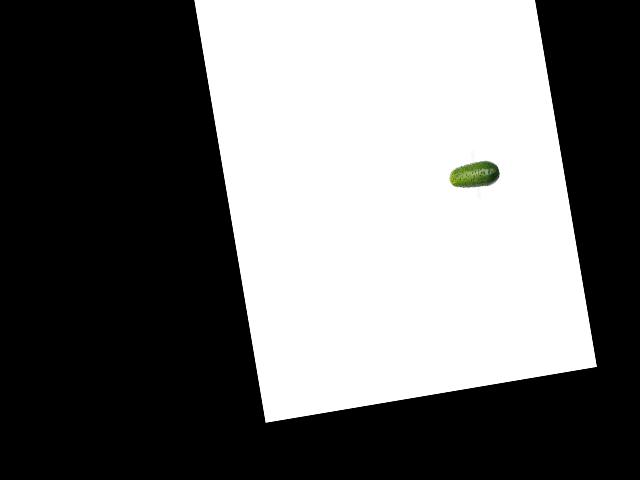cucumber: (447, 157, 501, 191)
